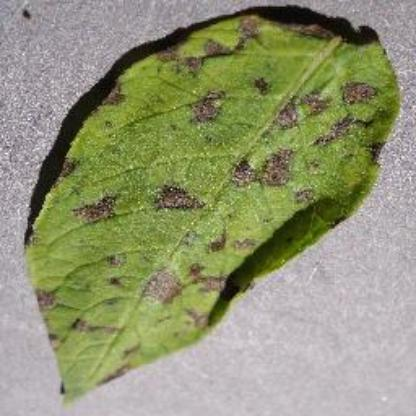Early-Blight: (25, 6, 416, 406)
